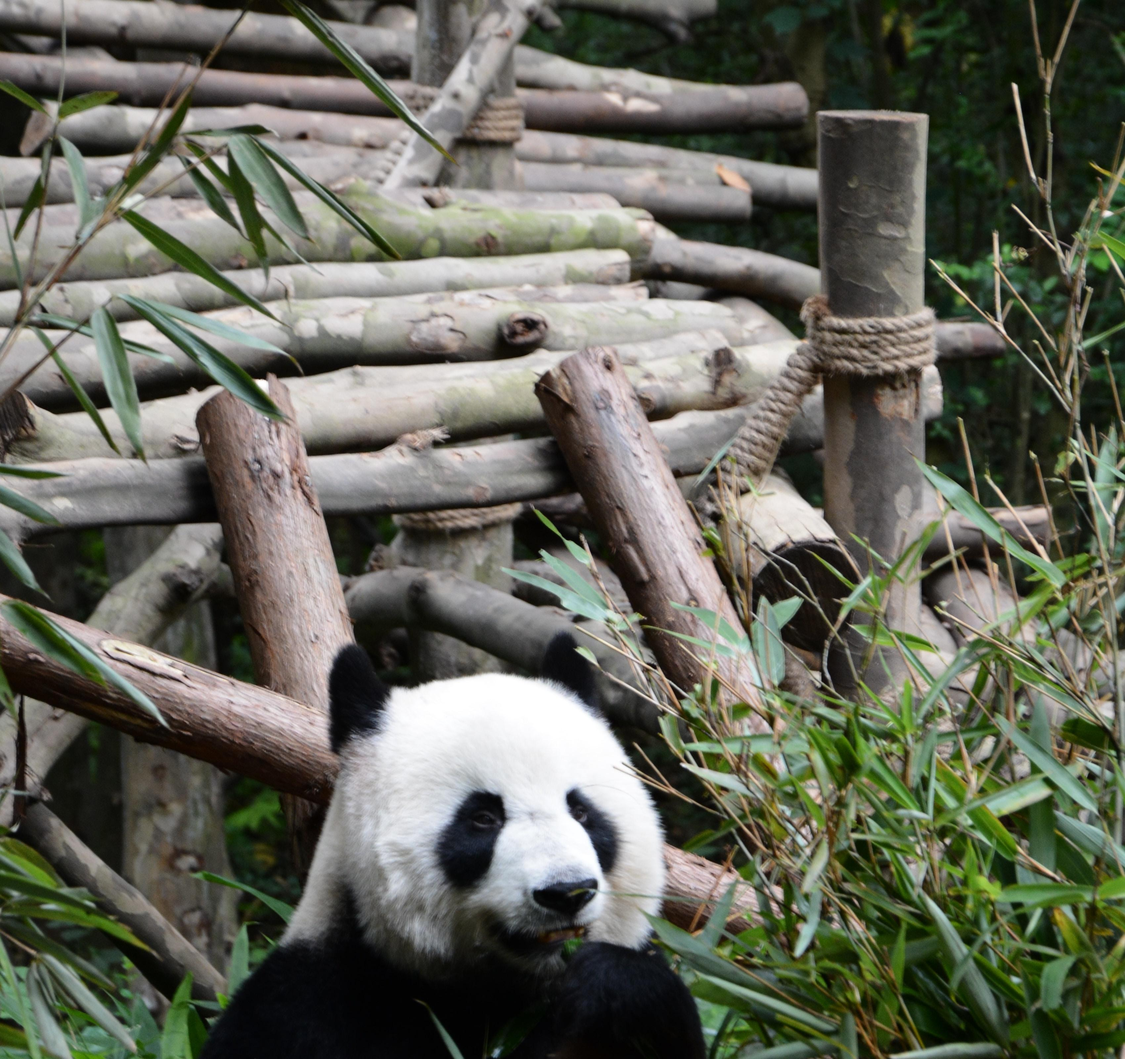panda: (217, 634, 705, 1059)
